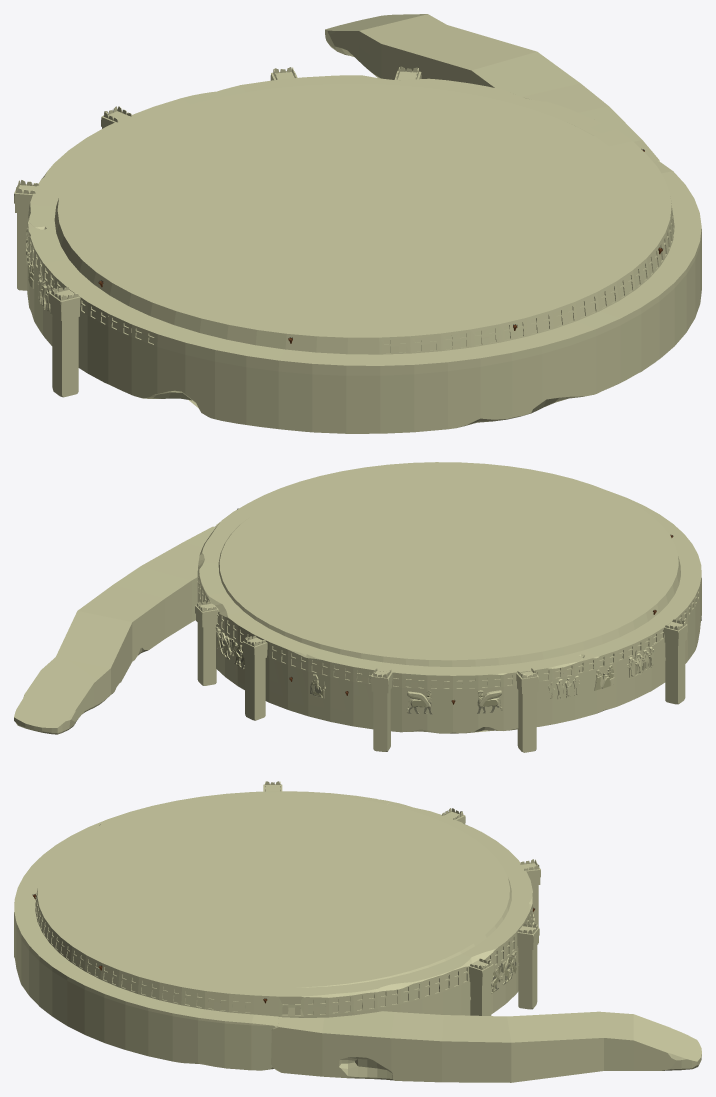
Rendered from torre.fbx.
The picture shows the model from 3 angles, top to bottom: view 1: azimuth 30°, elevation 25°; view 2: azimuth 150°, elevation 25°; view 3: azimuth 270°, elevation 25°; orthographic projection. The views are drawn at different scales.
Parts seen in each view (by area): view 1: Spiral.001_dmg; view 2: Spiral.001_dmg; view 3: Spiral.001_dmg.
Boxes of the visible parts, x1=… form: Spiral.001_dmg: x1=14, y1=14, x2=701, y2=433; Spiral.001_dmg: x1=14, y1=462, x2=701, y2=752; Spiral.001_dmg: x1=14, y1=781, x2=701, y2=1082.
Bounding box in the file's own units: 25337 × 4163 × 30443.
